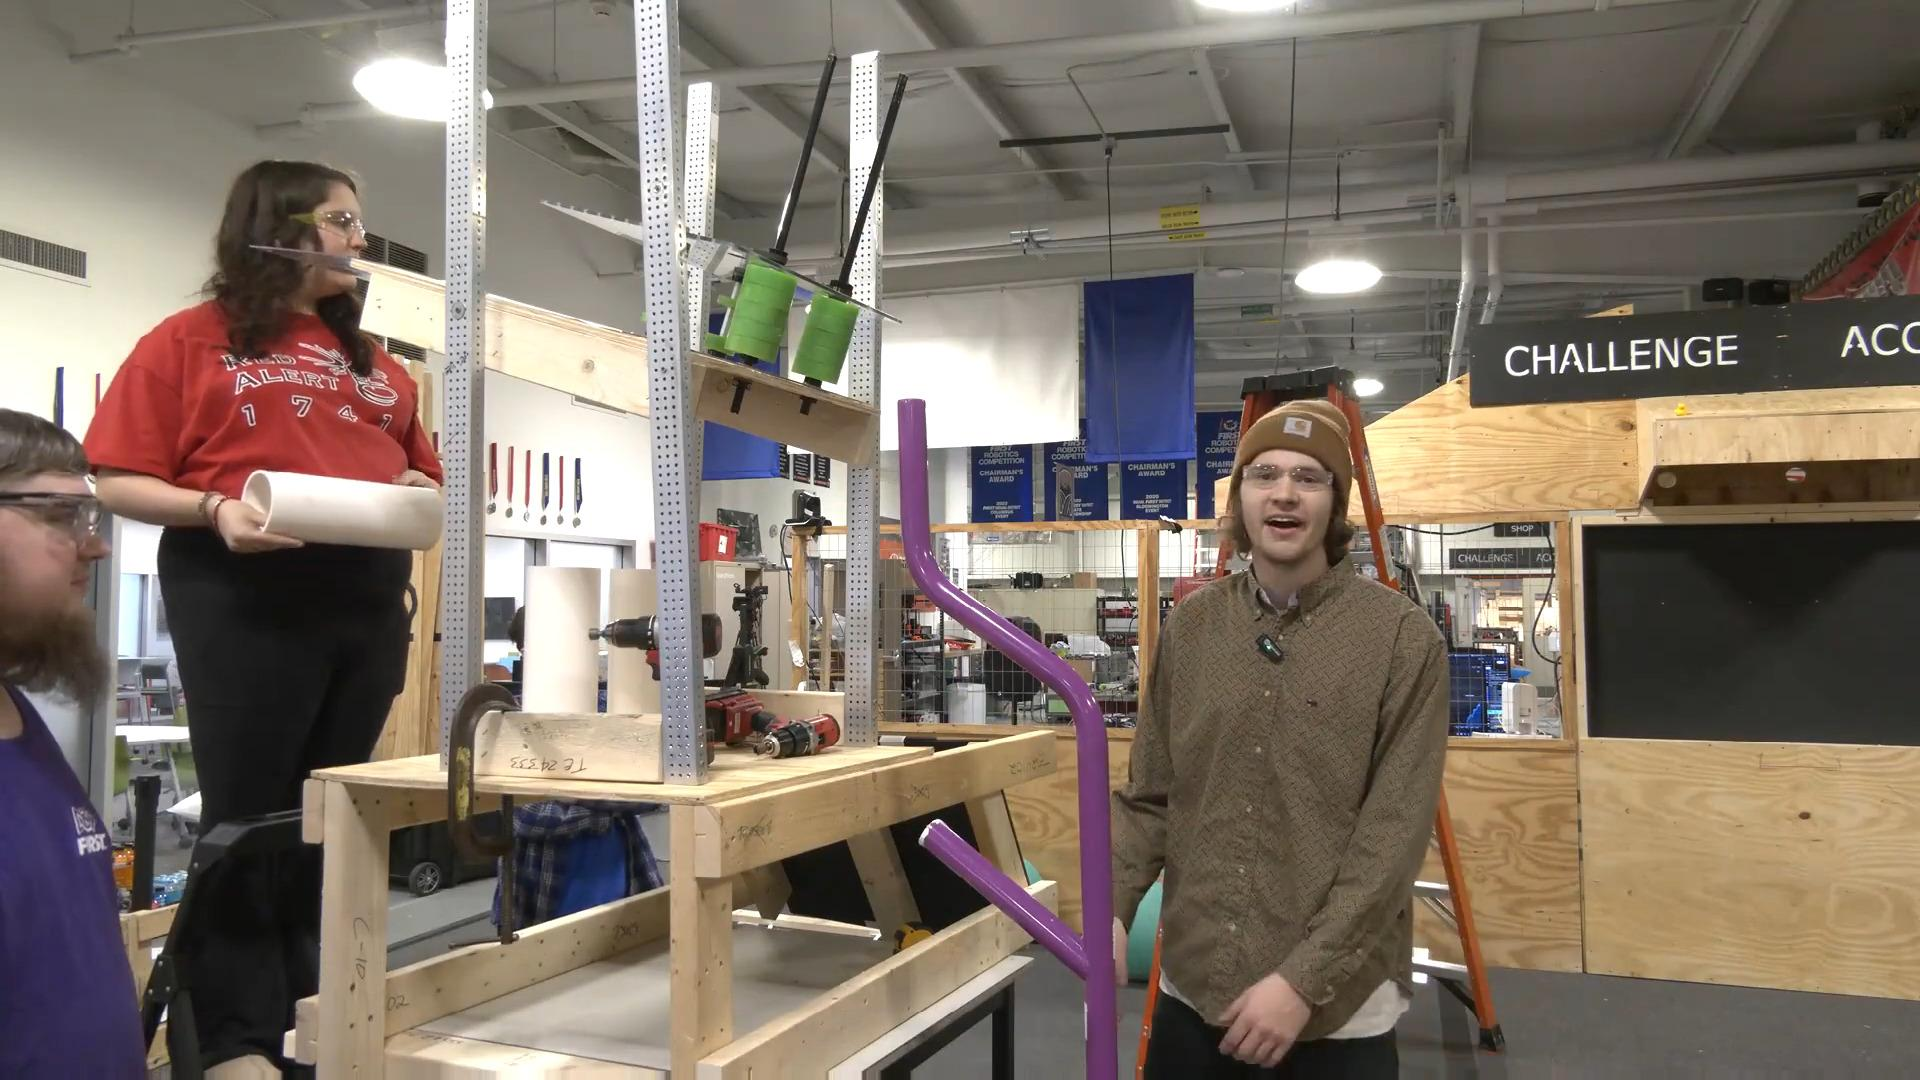coral: (239, 469, 443, 550), (521, 566, 601, 711), (608, 570, 667, 713)
